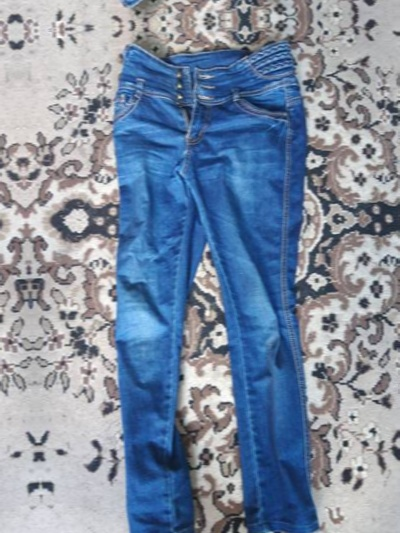Pants: (64, 32, 350, 532), (35, 0, 322, 12)
